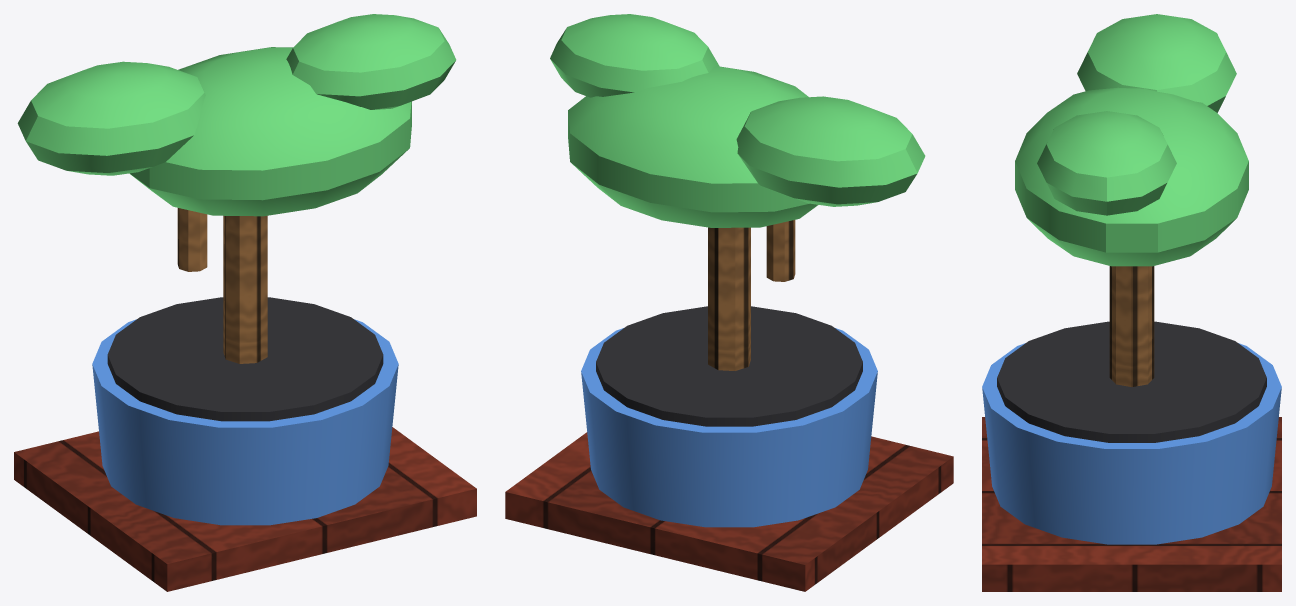
Rendered from Small_Japanese.fbx.
3 renders of one model, left to right at view 1: azimuth 30°, elevation 25°; view 2: azimuth 150°, elevation 25°; view 3: azimuth 270°, elevation 25°, orthographic. The views are drawn at different scales.
Parts seen in each view (by area): view 1: Small_Japanese; view 2: Small_Japanese; view 3: Small_Japanese.
Boxes of the visible parts, x1,y1,x2,y2 form: Small_Japanese: (14,14,476,591); Small_Japanese: (505,14,953,591); Small_Japanese: (982,14,1281,591).
Bounding box in the file's own units: 0.9 × 0.984 × 0.6.
5 materials, 2 textured.
